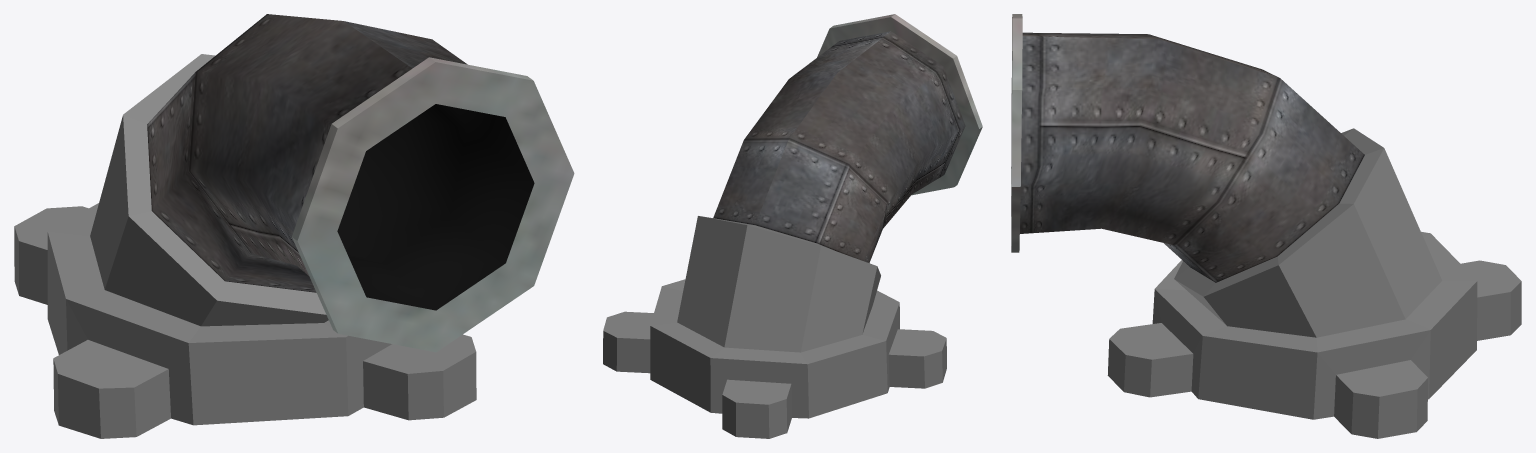
Rendered from pipe_J.glb.
3 renders of one model, left to right at view 1: azimuth 30°, elevation 25°; view 2: azimuth 150°, elevation 25°; view 3: azimuth 270°, elevation 25°, orthographic. The views are drawn at different scales.
Parts seen in each view (by area): view 1: zhuti.J; view 2: zhuti.J; view 3: zhuti.J.
Part boxes in pixels (x1=…): zhuti.J: x1=14, y1=14, x2=574, y2=438; zhuti.J: x1=603, y1=14, x2=982, y2=438; zhuti.J: x1=1011, y1=14, x2=1521, y2=438.
Size of the model in its own units: 6.86 by 6.09 by 8.45.
1 material, 1 textured.
